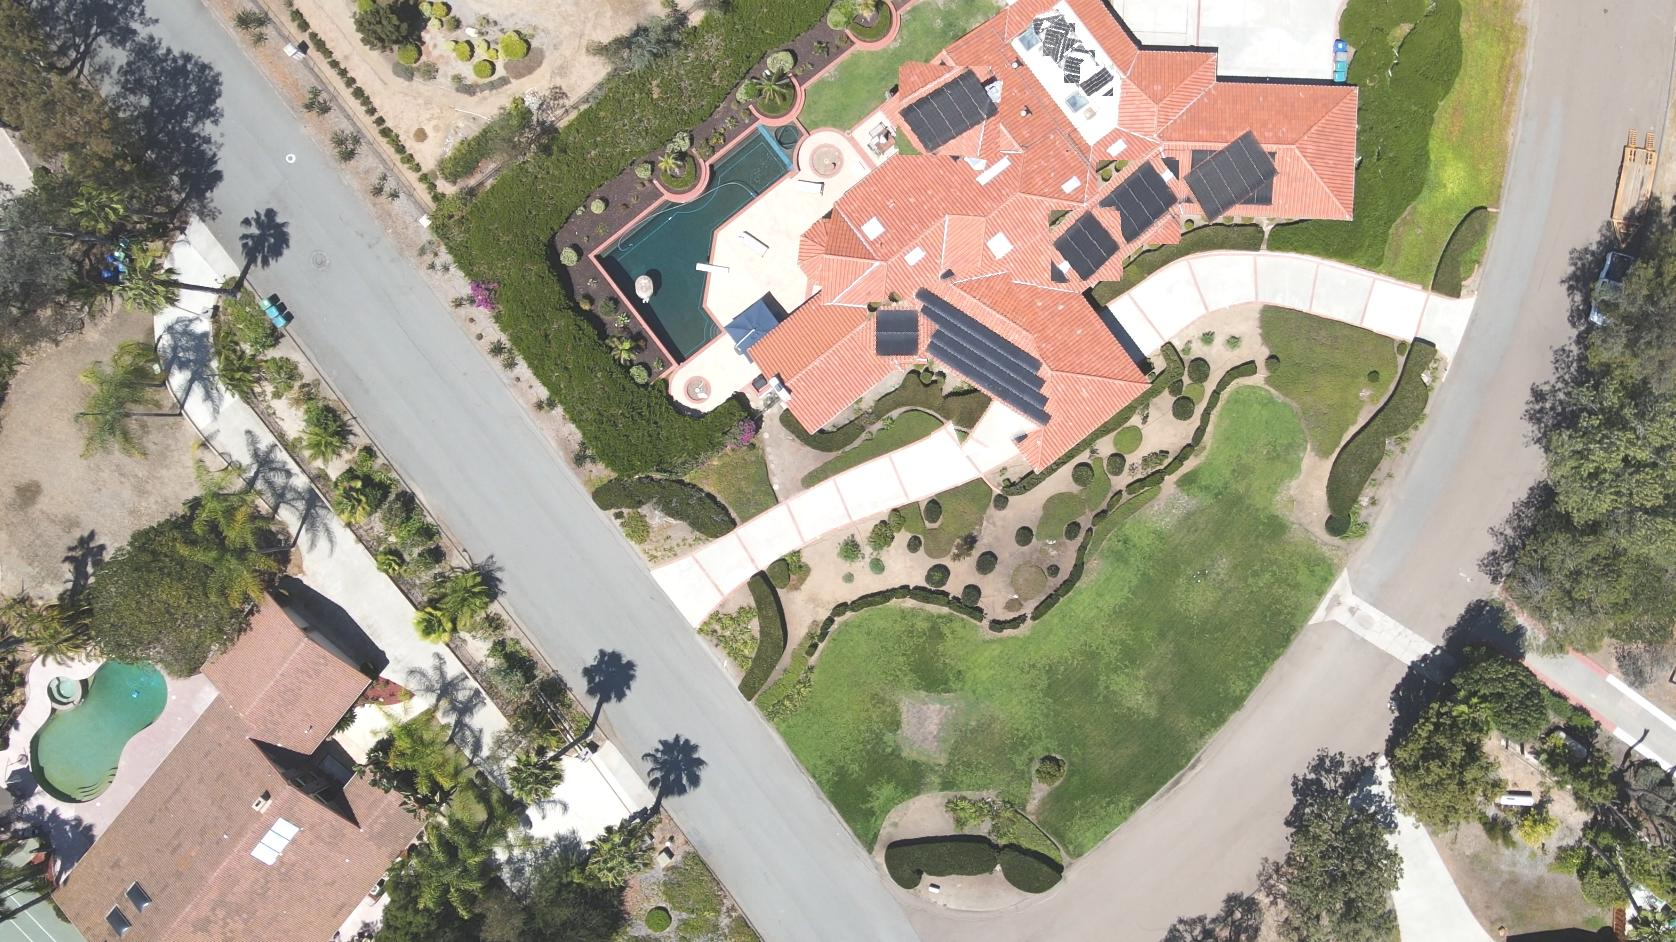solar-panels: (915, 287, 1054, 426), (1182, 130, 1280, 223), (899, 68, 1000, 153), (1099, 159, 1179, 245), (1051, 210, 1120, 281), (876, 311, 919, 357), (1080, 66, 1112, 96), (1043, 29, 1077, 51), (1059, 36, 1081, 70), (1062, 55, 1097, 77), (1033, 15, 1066, 36)
